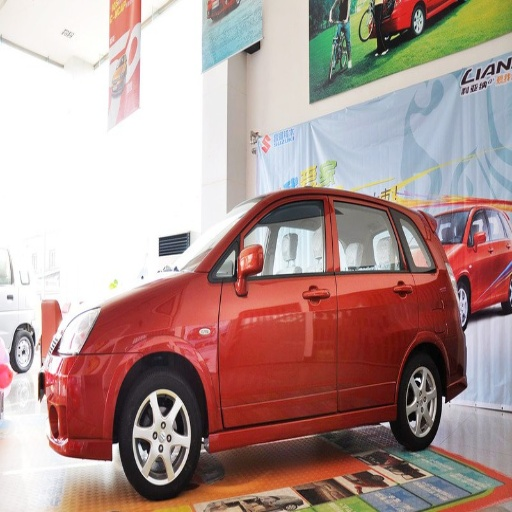front_left_door: (216, 194, 338, 423)
